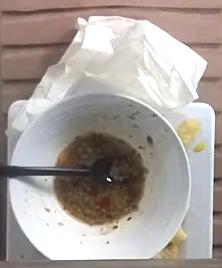lentils: (53, 132, 146, 223)
